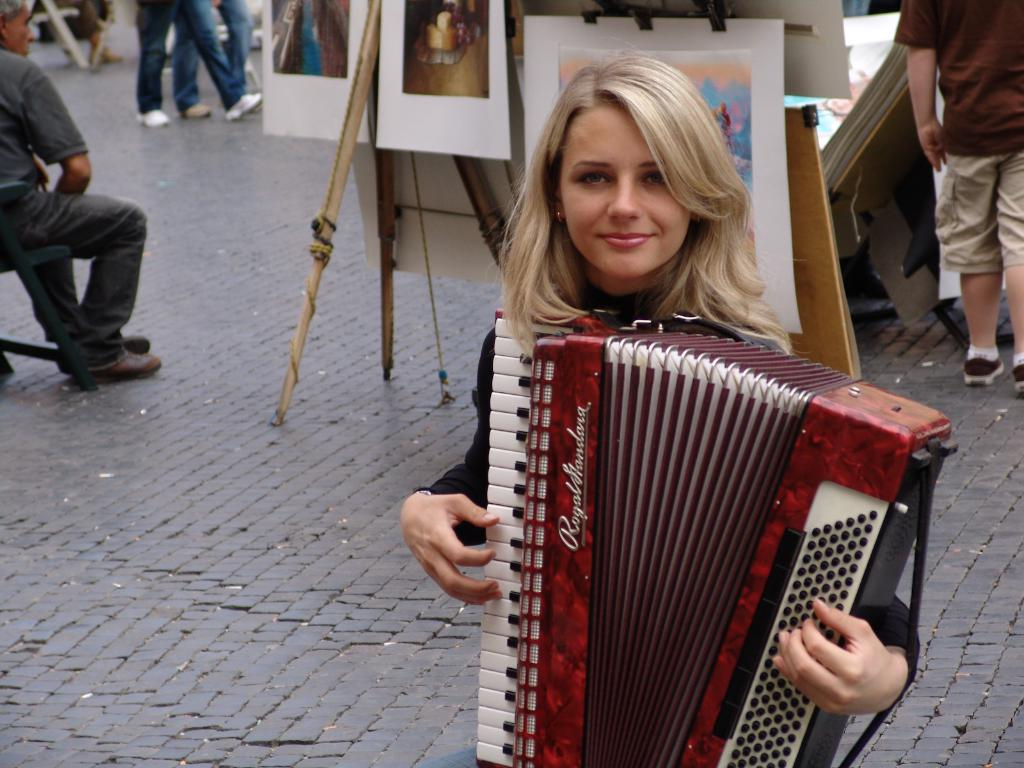Footwear: (70, 349, 163, 391), (60, 332, 150, 369), (961, 356, 1004, 388), (227, 93, 262, 122), (92, 43, 124, 63), (140, 111, 168, 127), (183, 104, 212, 117), (1012, 362, 1023, 392)
